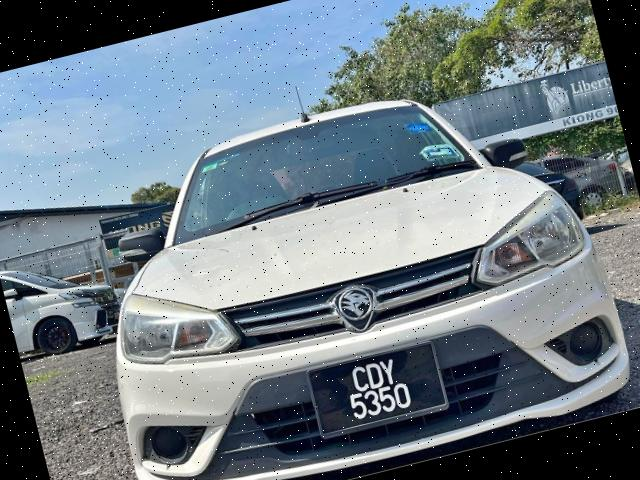License_Plate: (311, 339, 446, 439)
car: (60, 55, 640, 480)
